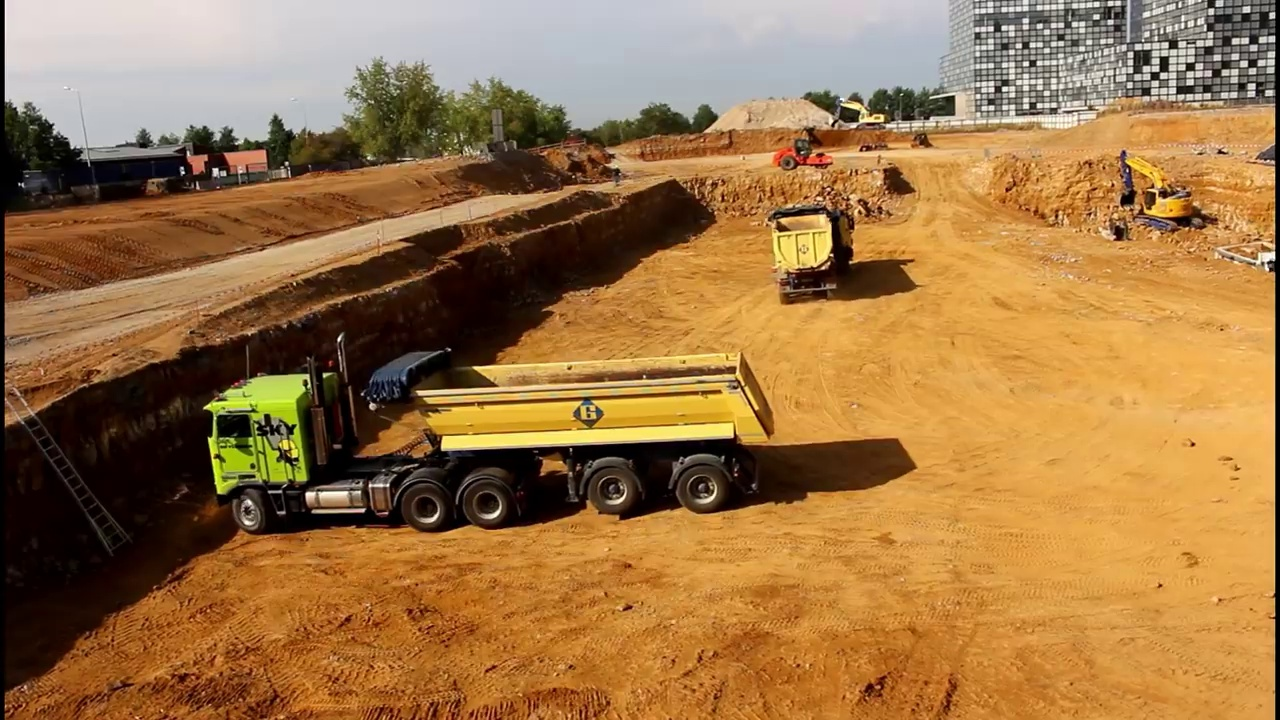compactor: (772, 138, 834, 169)
excavator: (1116, 150, 1209, 236), (826, 98, 886, 131)
truck: (198, 327, 778, 537), (767, 200, 858, 305), (1215, 236, 1280, 284)
worker: (613, 162, 623, 192)
